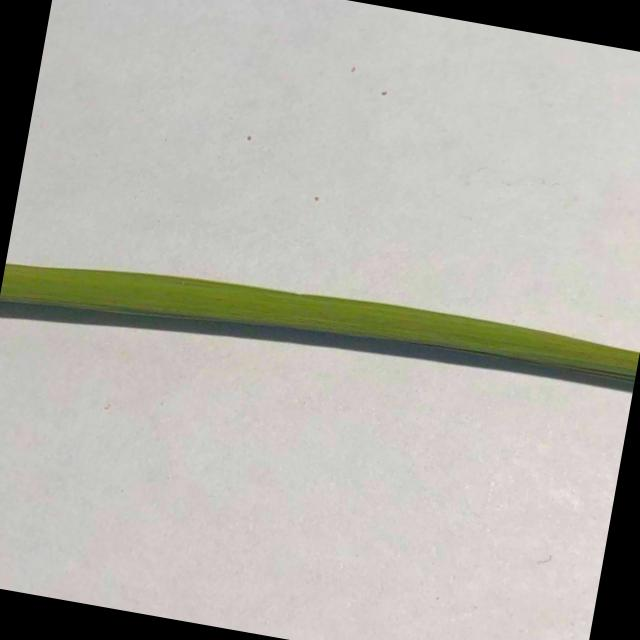Rice_Healthy: (0, 263, 639, 390)
